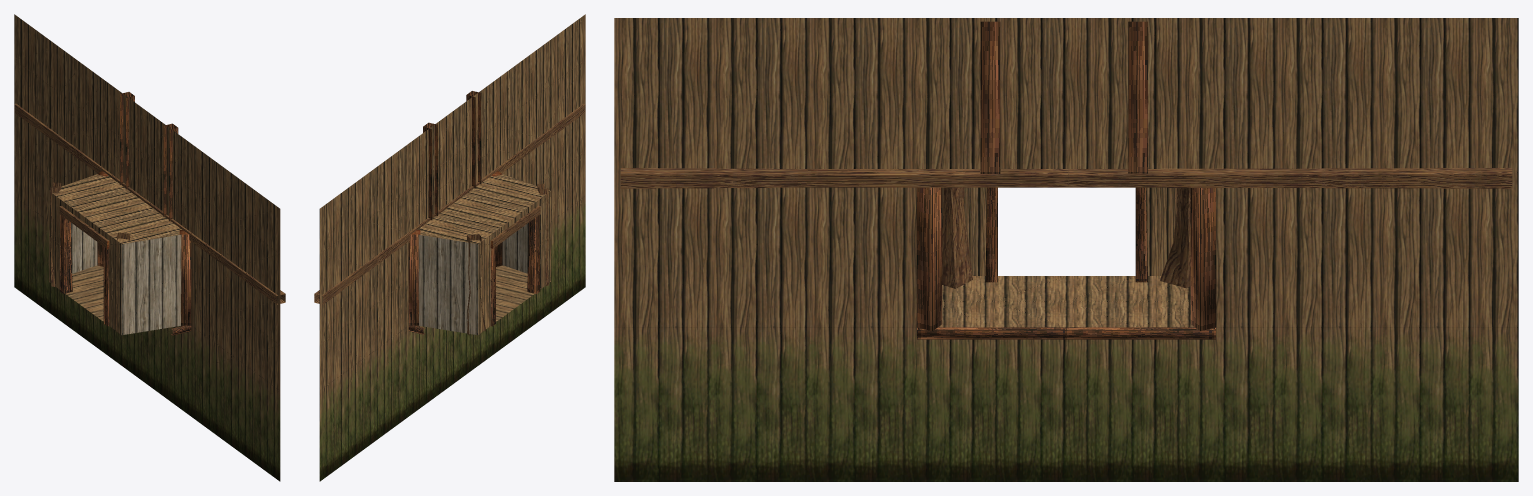
Rendered from LAKETOWN_WAREHOUSE2_PS_WH2_BACKWALL94948__GX.obj.
3 renders of one model, left to right at view 1: azimuth 30°, elevation 25°; view 2: azimuth 150°, elevation 25°; view 3: azimuth 270°, elevation 25°, orthographic. The views are drawn at different scales.
Parts seen in each view (by area): view 1: ckWall94948__GX; view 2: ckWall94948__GX; view 3: ckWall94948__GX.
Part boxes in pixels (x1,y1,x2,y2): ckWall94948__GX: (14, 14, 285, 481); ckWall94948__GX: (314, 14, 585, 481); ckWall94948__GX: (614, 18, 1518, 481).
Bounding box in the file's own units: 296 × 1072 × 1890.
